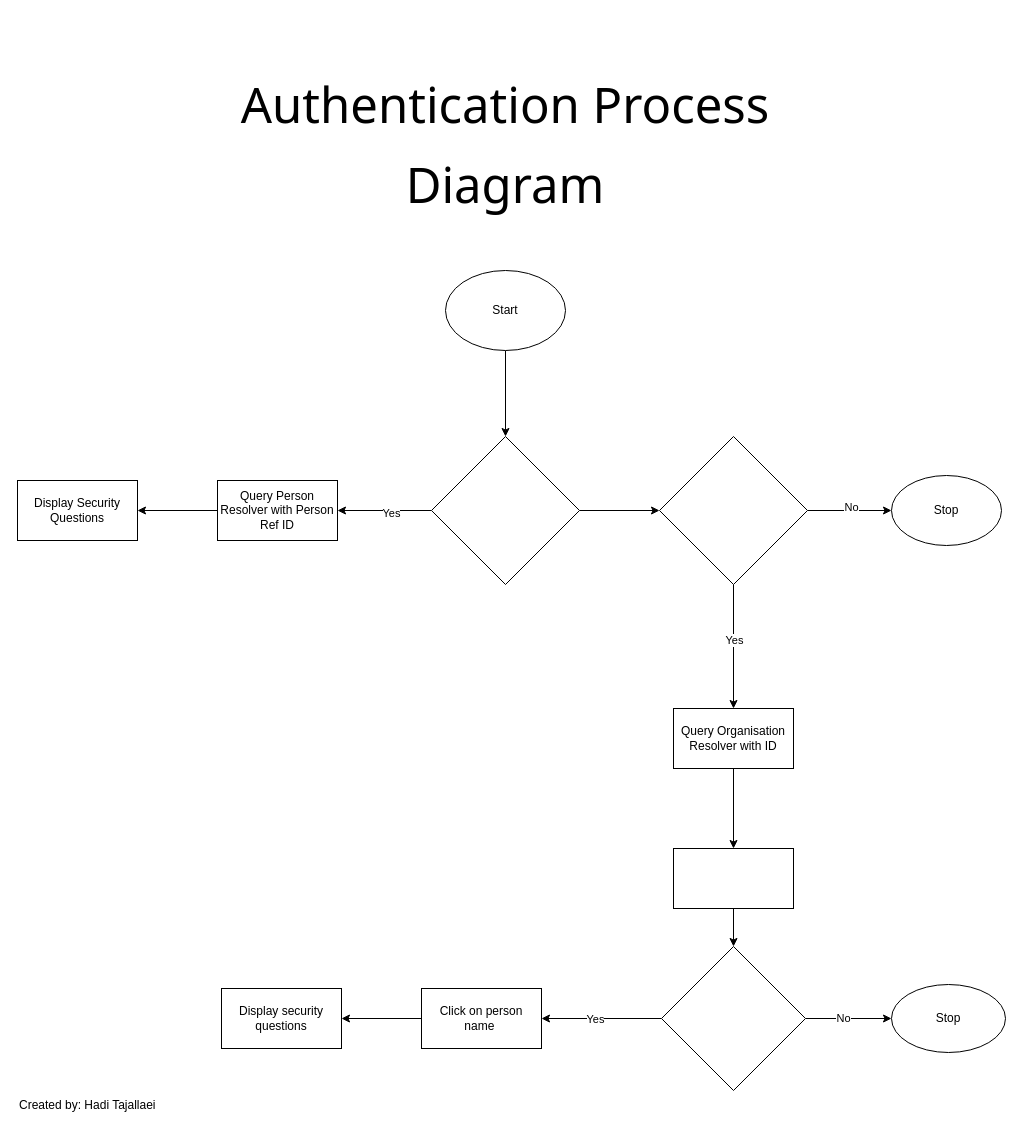
Some shapes in this 1023 by 1138 pixel diagram are drawn without their labels. Each missing label, with the box of its shape:
Display List of People and Confirm caller name: (672, 848, 794, 908)
Do you have a SBI?: (658, 436, 808, 584)
Do you have your customer ref number?: (430, 436, 580, 584)
Is caller's name listed?: (660, 946, 806, 1090)
